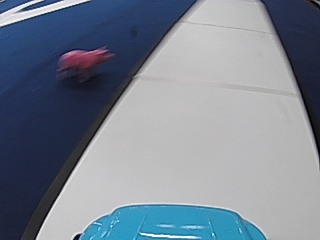pig: (56, 43, 114, 84)
